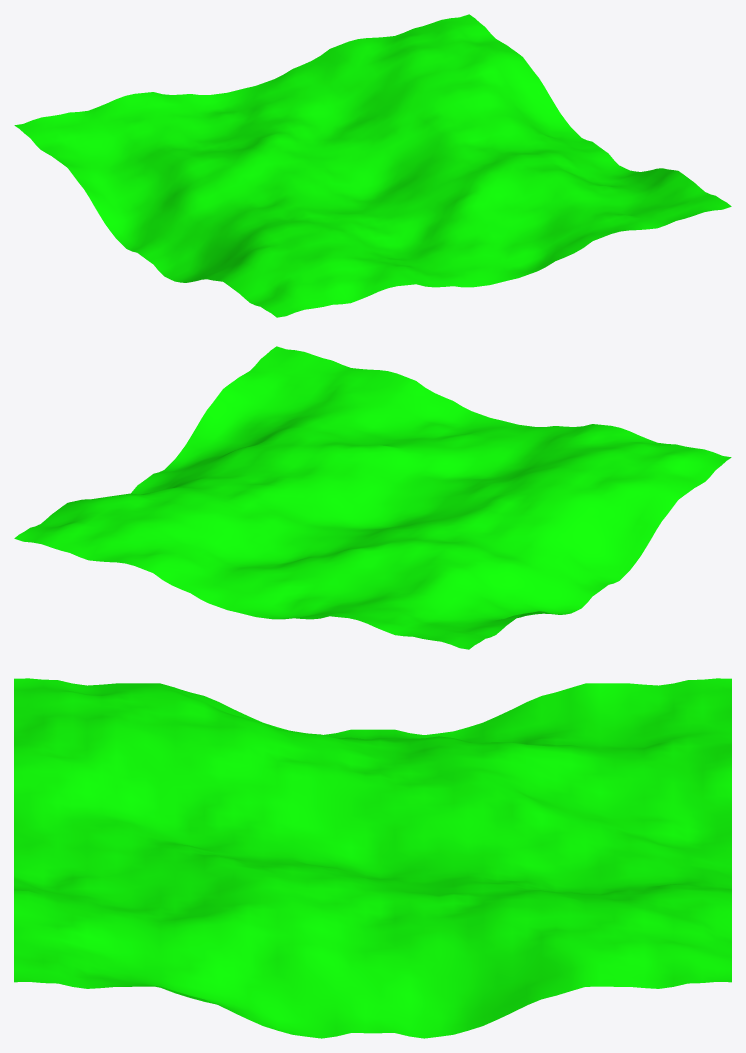
File: hills.obj
3 renders of one model, top to bottom at view 1: azimuth 30°, elevation 25°; view 2: azimuth 150°, elevation 25°; view 3: azimuth 270°, elevation 25°, orthographic. The views are drawn at different scales.
Visible parts, largest first — view 1: Cube.001; view 2: Cube.001; view 3: Cube.001.
Part boxes in pixels (box(x1,y1,x2,y2)): Cube.001: box(14, 14, 731, 317); Cube.001: box(14, 346, 731, 649); Cube.001: box(14, 678, 731, 1038).
Bounding box in the file's own units: 42.07 × 4.55 × 42.07.
